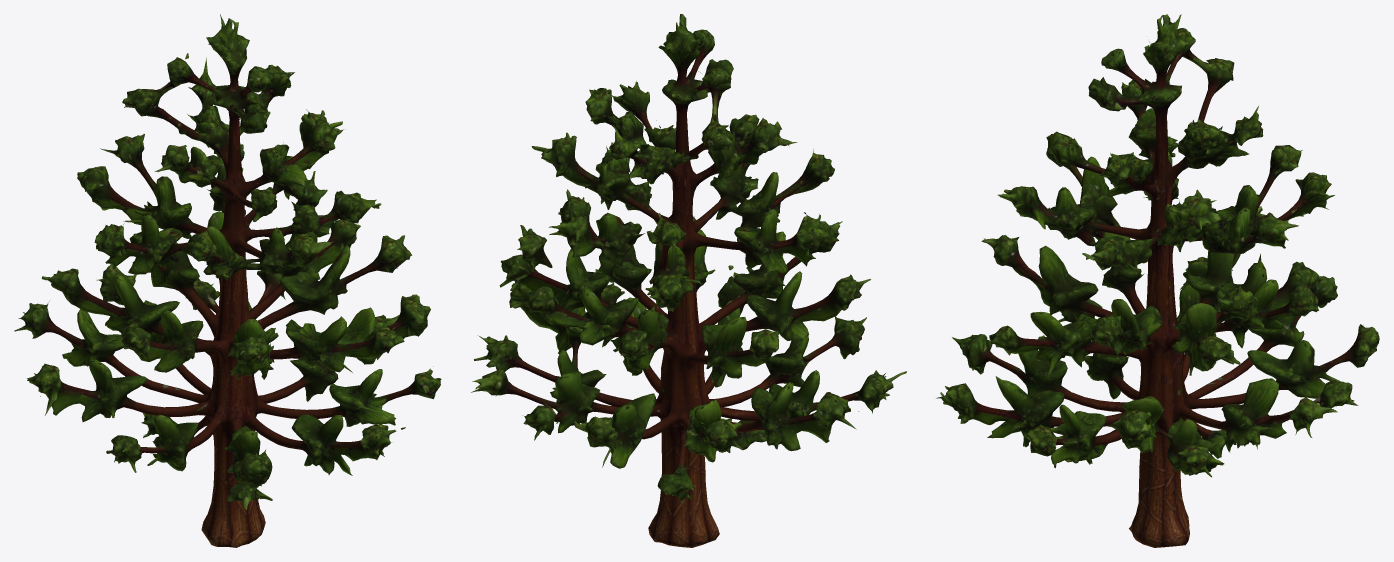
File: woodland_tree_05.glb
3 views of the same model, side by side, from view 1: azimuth 30°, elevation 25°; view 2: azimuth 150°, elevation 25°; view 3: azimuth 270°, elevation 25° (orthographic).
Parts seen in each view (by area): view 1: tripo_node_ae8f05a9-d27d-4a9a-949b-b2f9cf038da3; view 2: tripo_node_ae8f05a9-d27d-4a9a-949b-b2f9cf038da3; view 3: tripo_node_ae8f05a9-d27d-4a9a-949b-b2f9cf038da3.
Part boxes in pixels (x1,y1,x2,y2): tripo_node_ae8f05a9-d27d-4a9a-949b-b2f9cf038da3: (14, 14, 441, 547); tripo_node_ae8f05a9-d27d-4a9a-949b-b2f9cf038da3: (471, 14, 906, 547); tripo_node_ae8f05a9-d27d-4a9a-949b-b2f9cf038da3: (936, 14, 1379, 547).
Size of the model in its own units: 0.721 by 0.9601 by 0.7401.
1 material, 1 textured.
